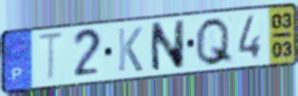2: (70, 27, 106, 83)
4: (236, 13, 265, 62)
K: (116, 25, 145, 74)
N: (148, 18, 187, 75)
Q: (193, 15, 235, 68)
T: (36, 30, 67, 85)
